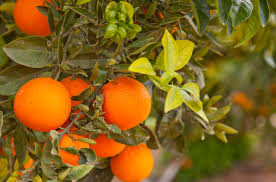orange: (17, 75, 70, 135), (104, 79, 151, 130), (14, 1, 61, 37), (115, 141, 155, 179), (62, 136, 92, 166), (92, 130, 122, 158)
